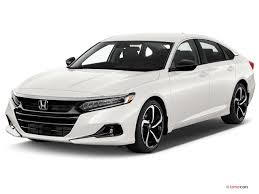Honda: (5, 33, 255, 152)
